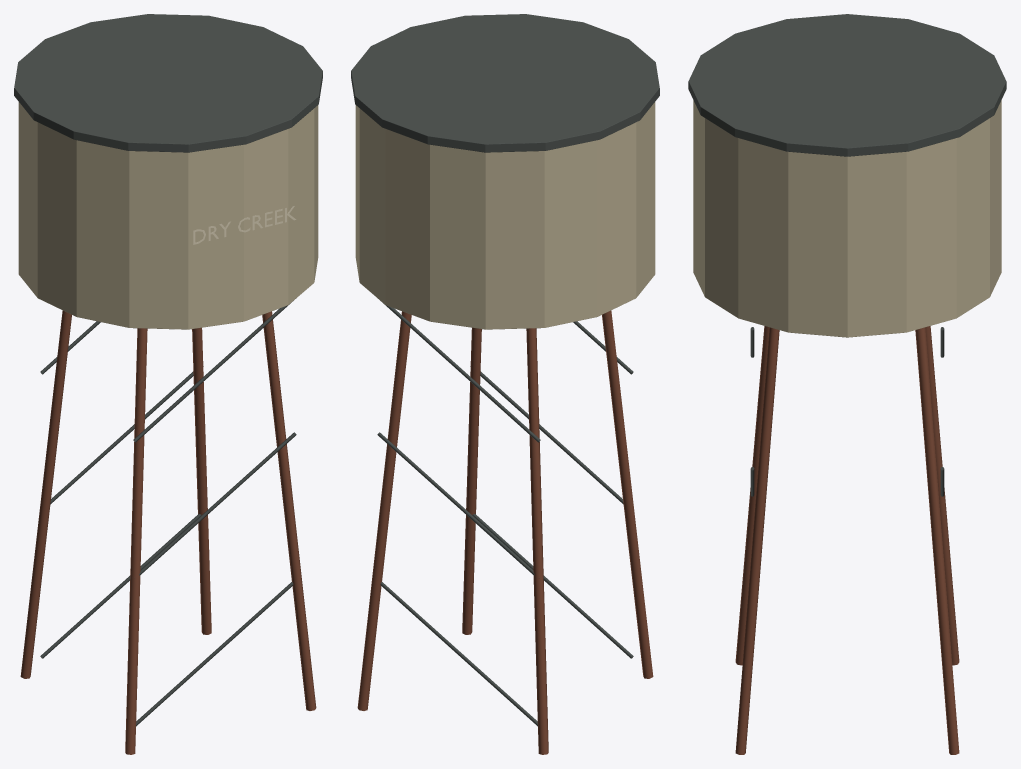
File: env_water_tower.gltf
3 views of the same model, side by side, from view 1: azimuth 30°, elevation 25°; view 2: azimuth 150°, elevation 25°; view 3: azimuth 270°, elevation 25° (orthographic). The views are drawn at different scales.
Visible parts, largest first — view 1: env_water_tower__paint_cream, env_water_tower__roof, env_water_tower__rust, env_water_tower__dark_steel, env_water_tower__paper; view 2: env_water_tower__paint_cream, env_water_tower__roof, env_water_tower__rust, env_water_tower__dark_steel; view 3: env_water_tower__paint_cream, env_water_tower__roof, env_water_tower__rust, env_water_tower__dark_steel.
Boxes of the visible parts, box(x1,y1,x2,y2) form: env_water_tower__paint_cream: box(18, 102, 318, 329); env_water_tower__roof: box(14, 14, 322, 152); env_water_tower__rust: box(20, 310, 316, 754); env_water_tower__dark_steel: box(40, 300, 296, 726); env_water_tower__paper: box(193, 206, 296, 244); env_water_tower__paint_cream: box(355, 102, 655, 329); env_water_tower__roof: box(351, 14, 659, 152); env_water_tower__rust: box(357, 310, 653, 754); env_water_tower__dark_steel: box(377, 300, 633, 726); env_water_tower__paint_cream: box(693, 100, 1001, 337); env_water_tower__roof: box(688, 14, 1006, 156); env_water_tower__rust: box(735, 326, 959, 754); env_water_tower__dark_steel: box(750, 327, 944, 496).
Bounding box in the file's own units: 26.8 × 58.34 × 26.8.
